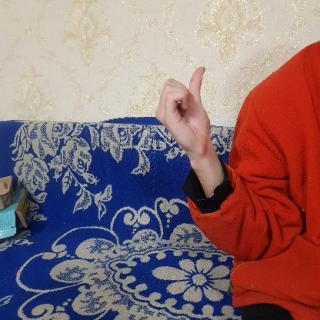WAW: (154, 60, 216, 161)
